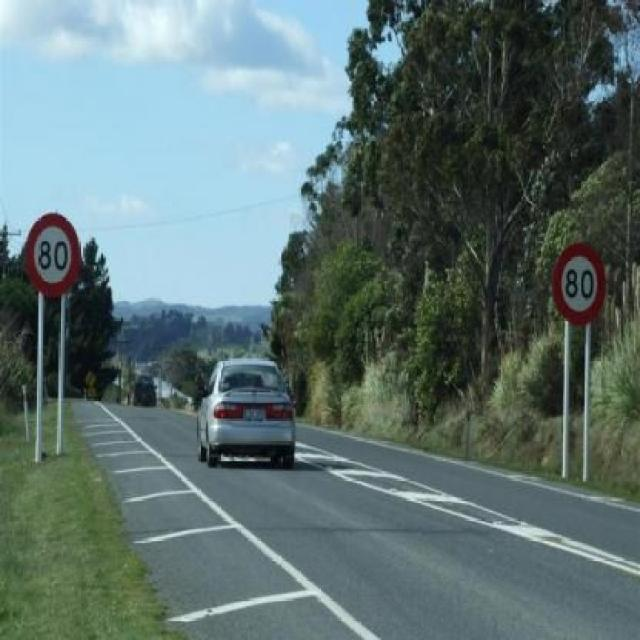forb_speed_over_80: (26, 214, 80, 292), (554, 244, 605, 325)
